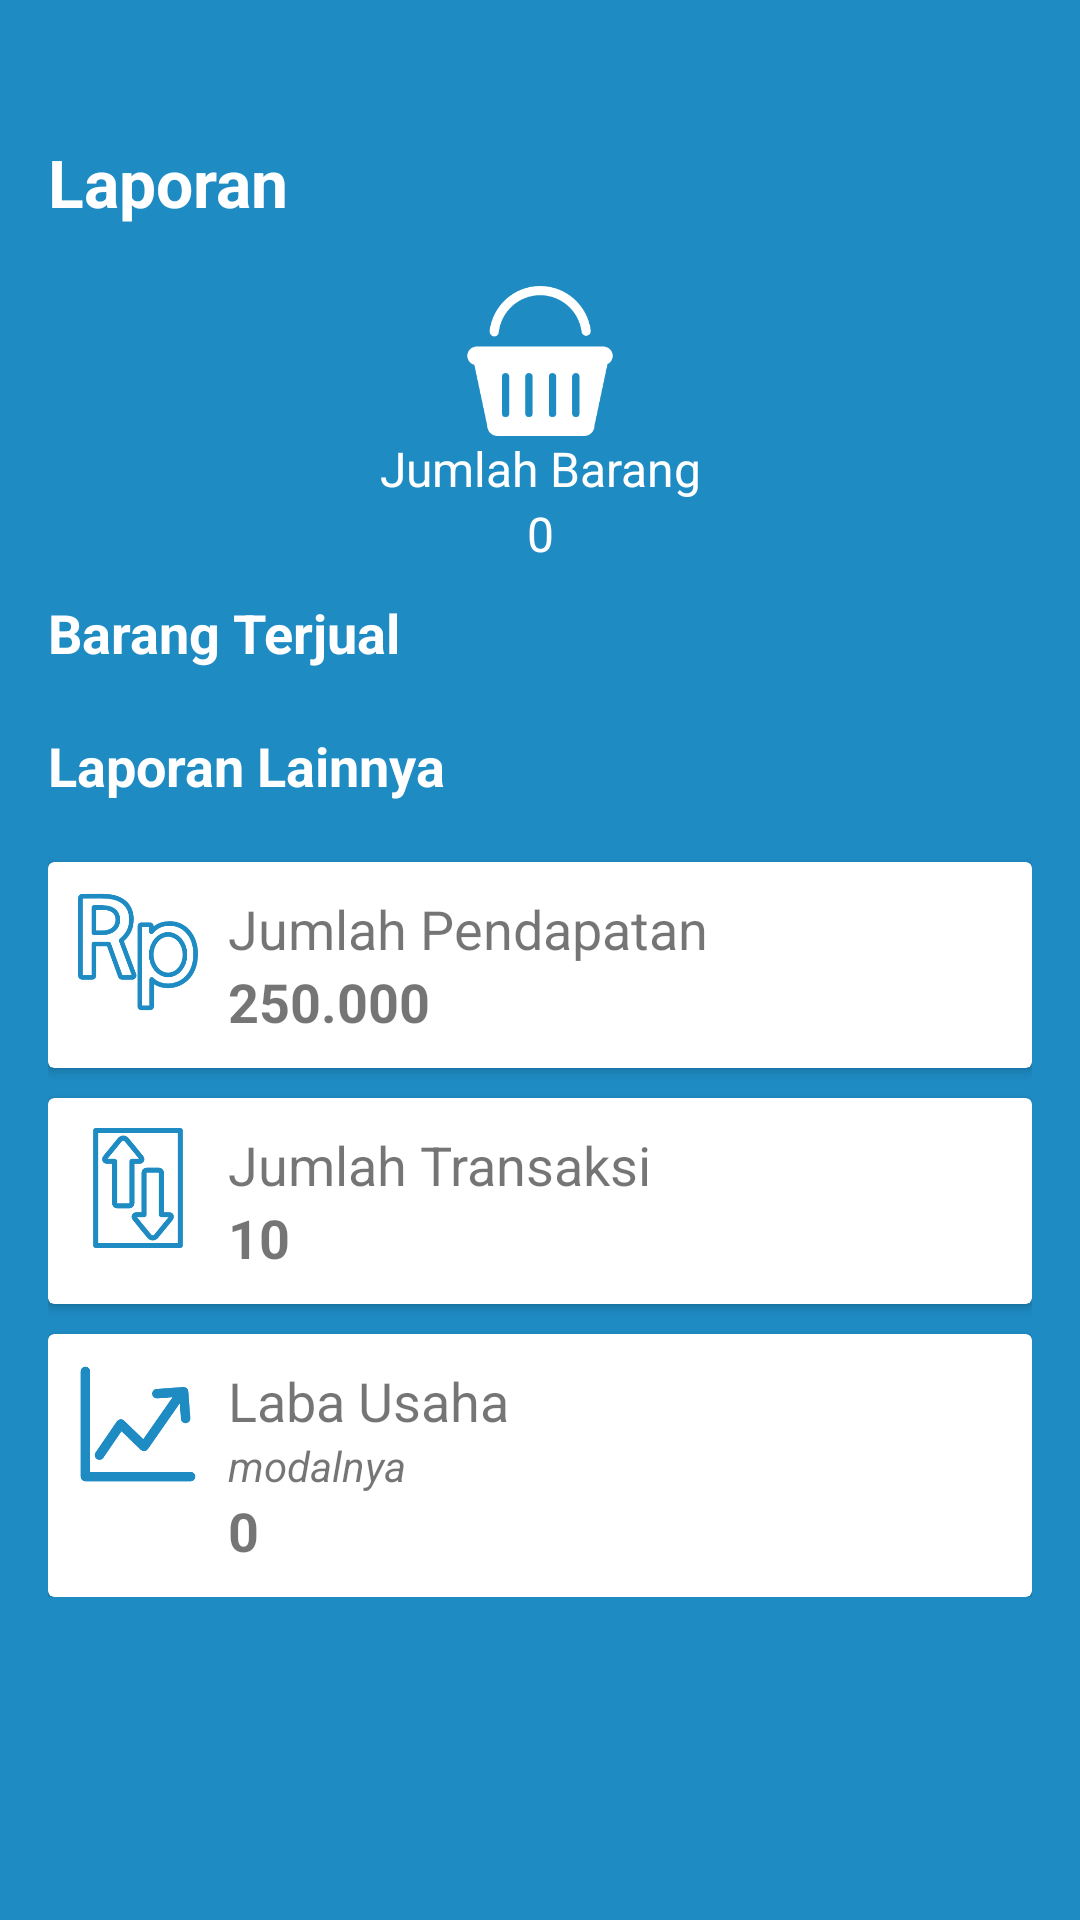

Where to tap for icons on this 1080x1920 app screen, as (x,y):
keranjang: (540,361)
rupiah: (138,952)
transaction: (138,1188)
